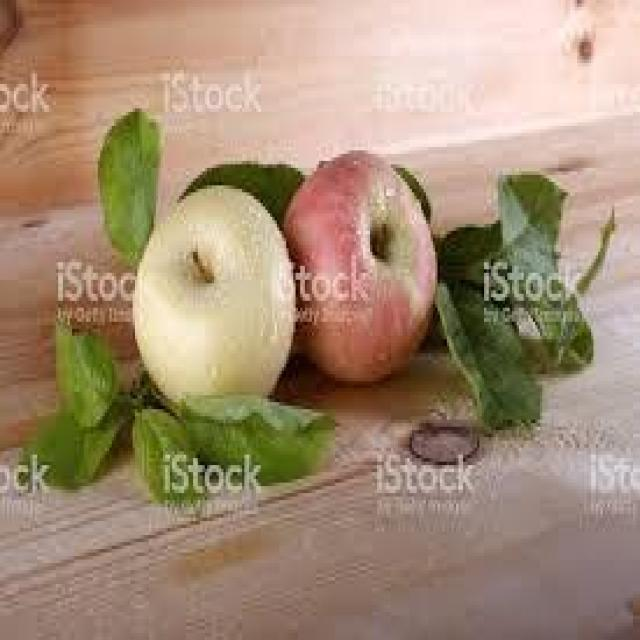maca: (130, 182, 296, 402), (282, 147, 438, 381)
